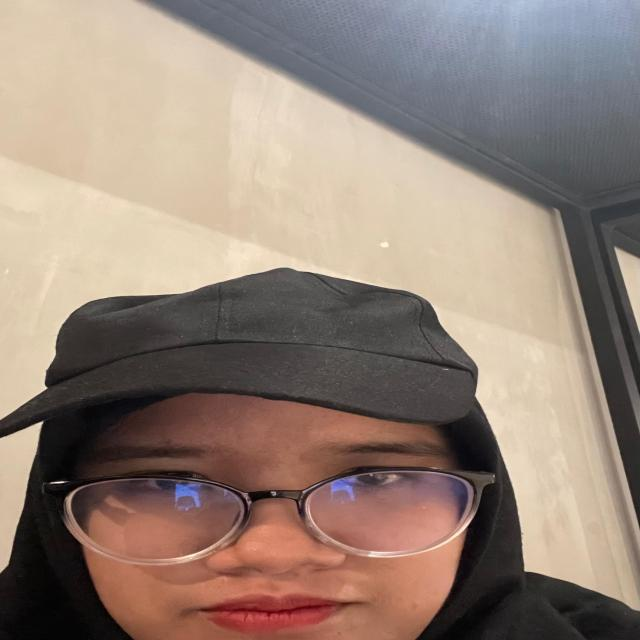3_gorra: (0, 264, 483, 442)
